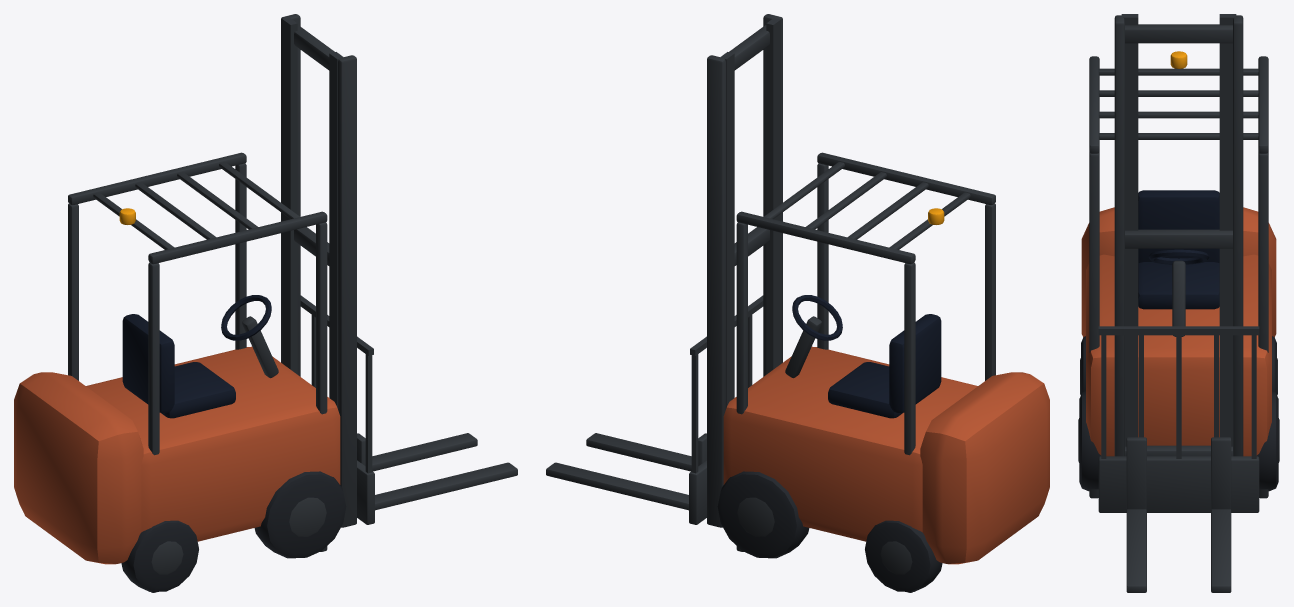
File: counterbalance.glb
3 views of the same model, side by side, from view 1: azimuth 30°, elevation 25°; view 2: azimuth 150°, elevation 25°; view 3: azimuth 270°, elevation 25° (orthographic). The views are drawn at different scales.
Visible parts, largest first — view 1: body, lift; view 2: body, lift; view 3: body, lift.
Part boxes in pixels (x1,y1,x2,y2): body: (14,14,356,592); lift: (300,295,517,524); body: (707,14,1049,592); lift: (546,295,763,524); body: (1078,14,1279,498); lift: (1098,326,1259,592).
Size of the model in its own units: 3.19 by 3.25 by 1.19.
